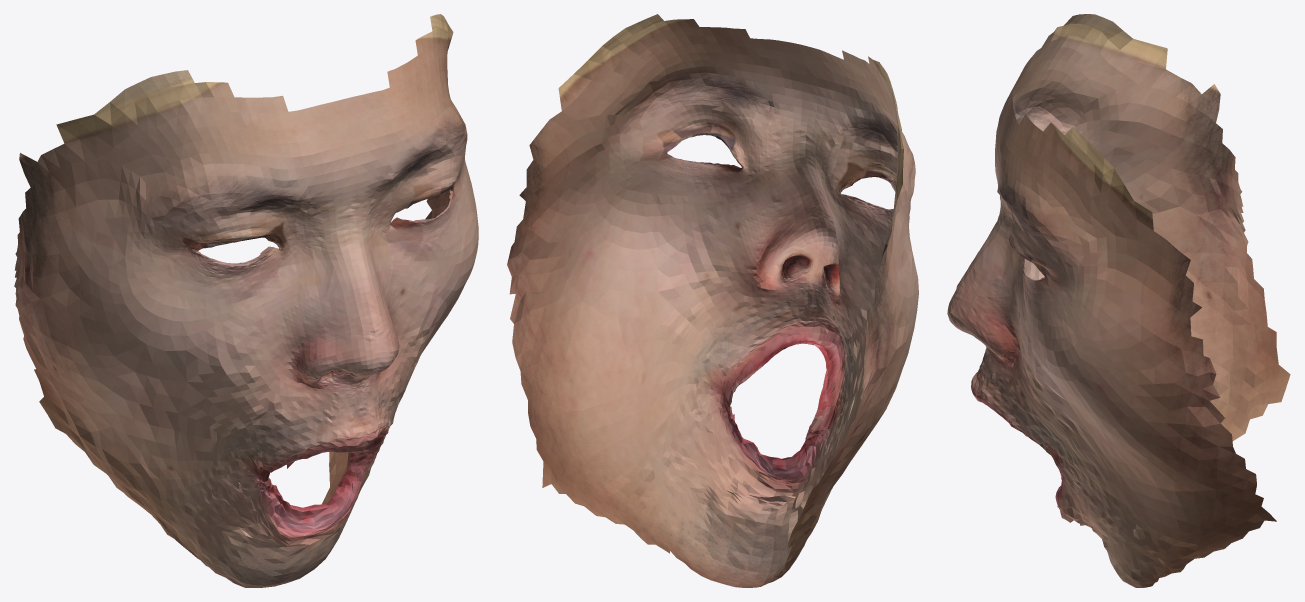
File: 3_mouth_stretch.obj
The picture shows the model from 3 angles, left to right: view 1: azimuth 30°, elevation 25°; view 2: azimuth 150°, elevation 25°; view 3: azimuth 270°, elevation 25°; orthographic projection. The views are drawn at different scales.
Bounding box in the file's own units: 159 × 207 × 127.
Materials: 1 (1 with a texture image).
